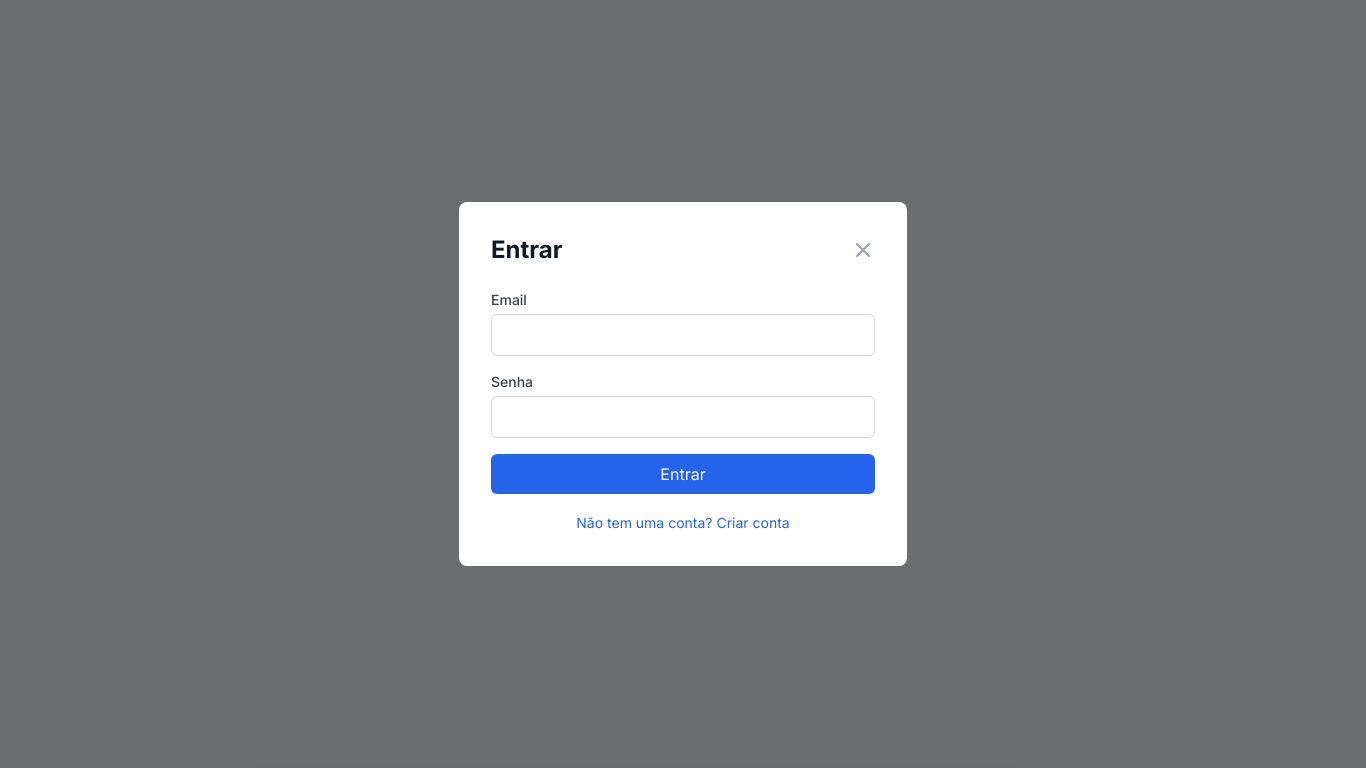
it: Fluxo de Autenticação - Integração › Login de Usuário › deve mostrar erro para credenciais inválidas
Preencher formulário
In the field labelled "Email": (683, 335) [491,314,875,356], type "invalid@example.com"
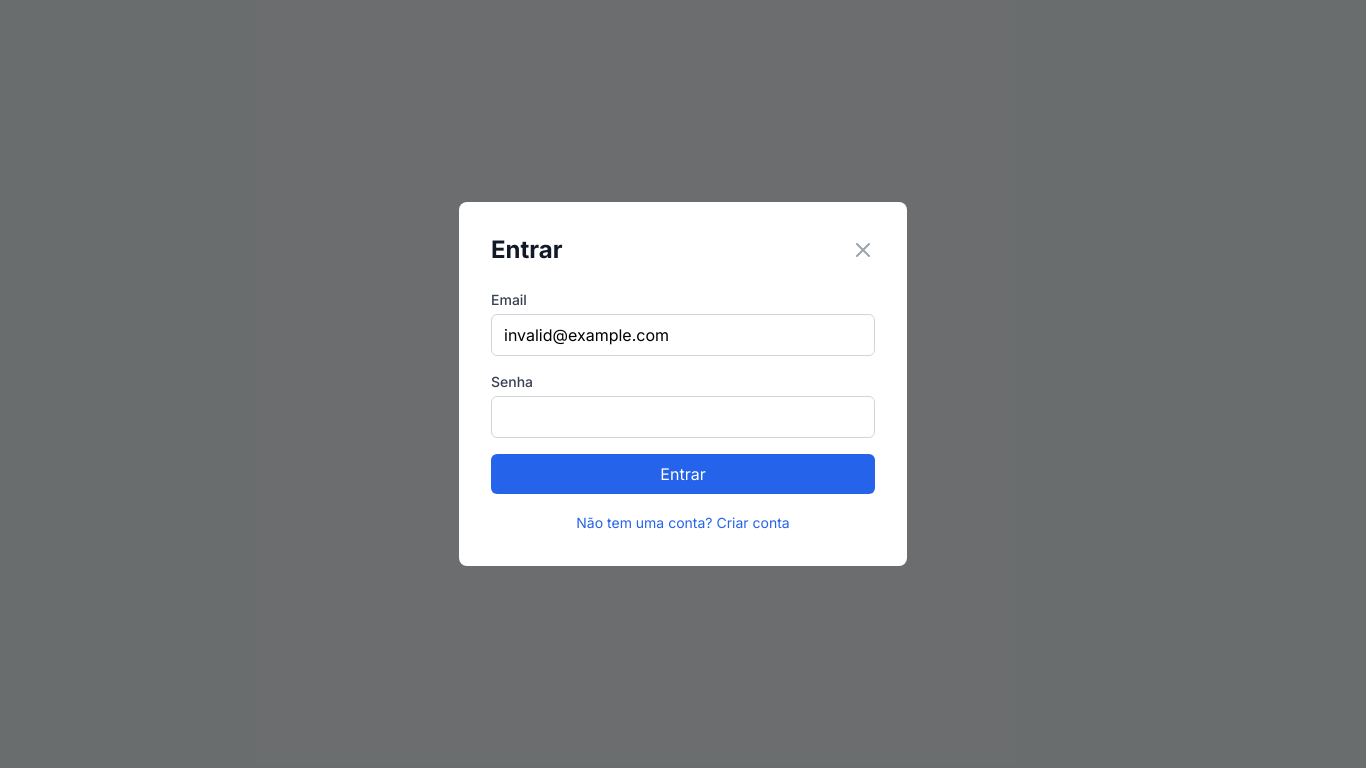
In the password field labelled "Senha": (683, 417) [491,396,875,438], type "wrongpassword"
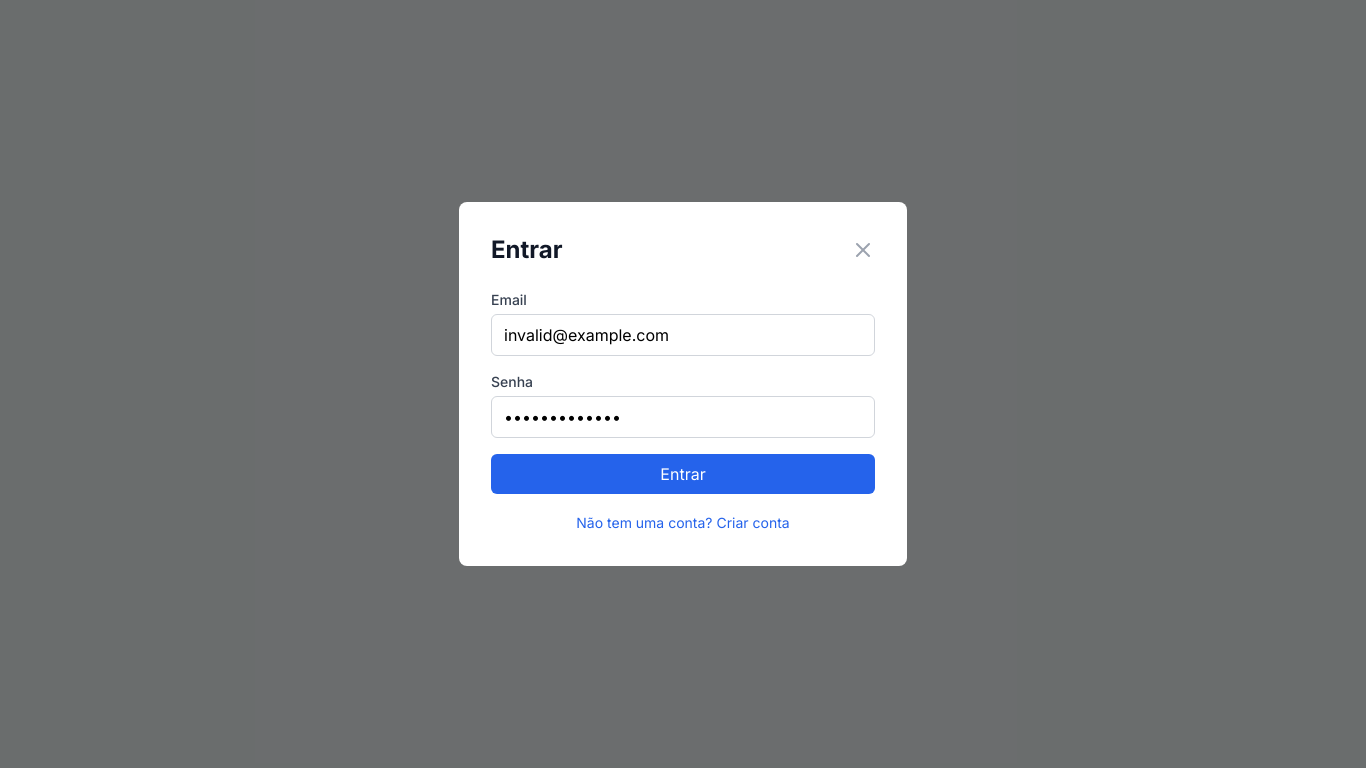
Submeter formulário
Click the button "Entrar": (683, 474) [491,454,875,494]
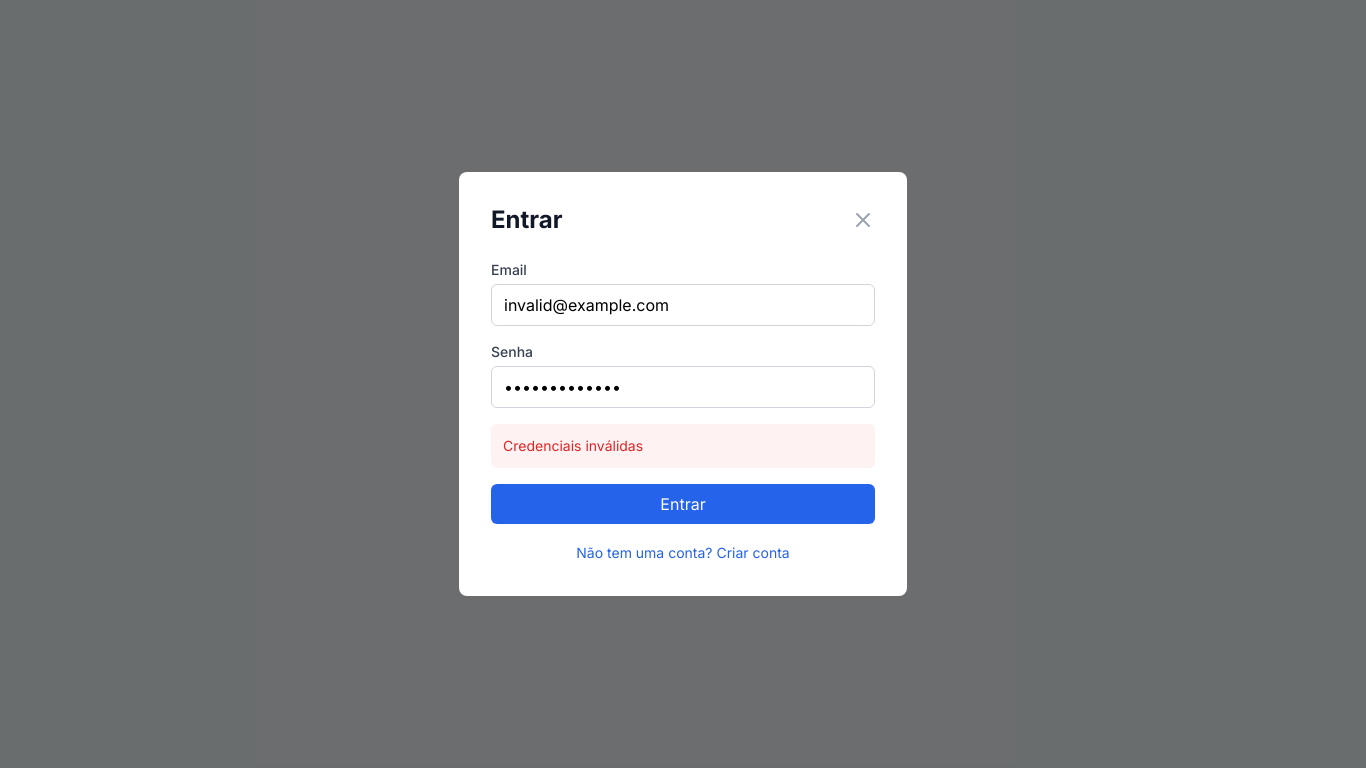
Expected: the text "Credenciais inválidas" is shown, [491,424,875,468]
